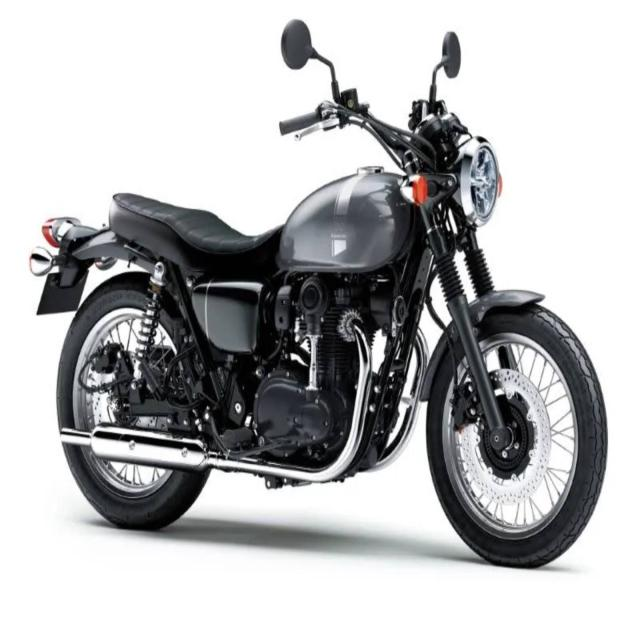Bike: (30, 20, 606, 567)
